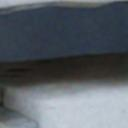brick: (38, 92, 127, 127), (0, 0, 114, 7)
crack: (0, 0, 127, 127)
